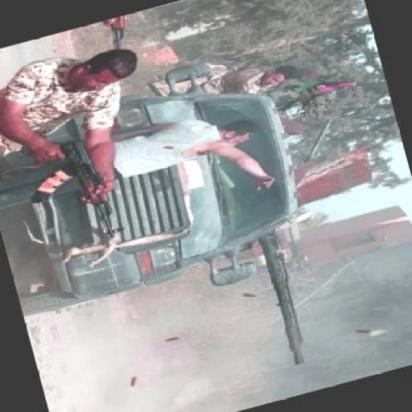Gun: (18, 123, 127, 257), (101, 12, 147, 54)
